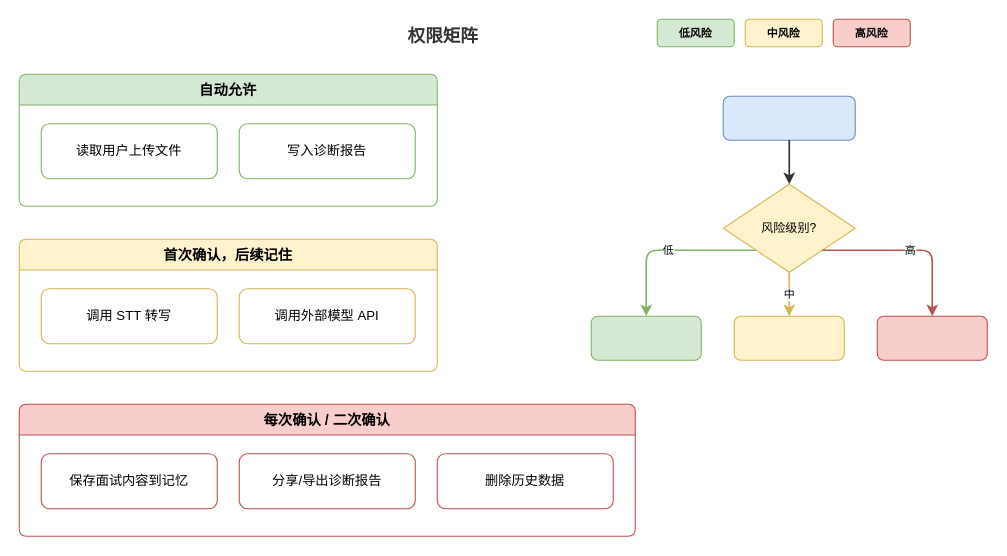
Some shapes in this 1007 by 556 pixel diagram are drawn without their labels. Here are the shapes that lost their labels. From the top down, the centre of each, then its label:
At (x=788, y=117): "操作请求".
At (x=645, y=337): "直接执行".
At (x=788, y=337): "用户确认".
At (x=931, y=337): "二次确认".
